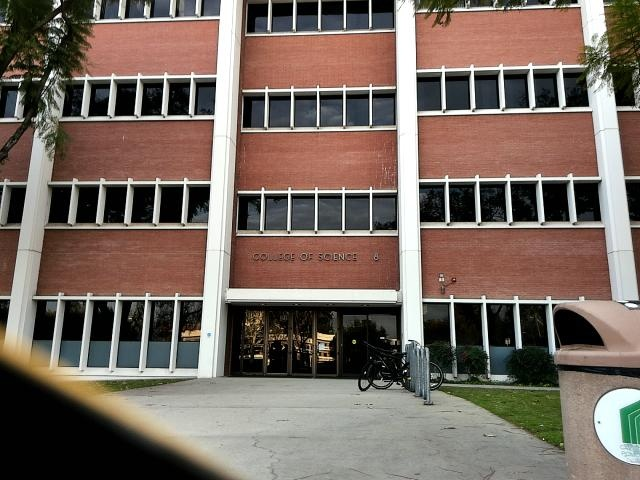trashcan: (540, 291, 640, 480)
